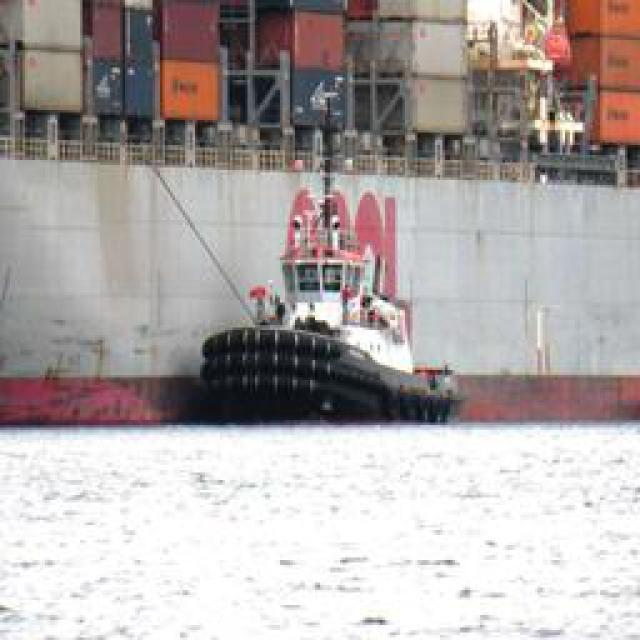Ship: (204, 189, 464, 424)
